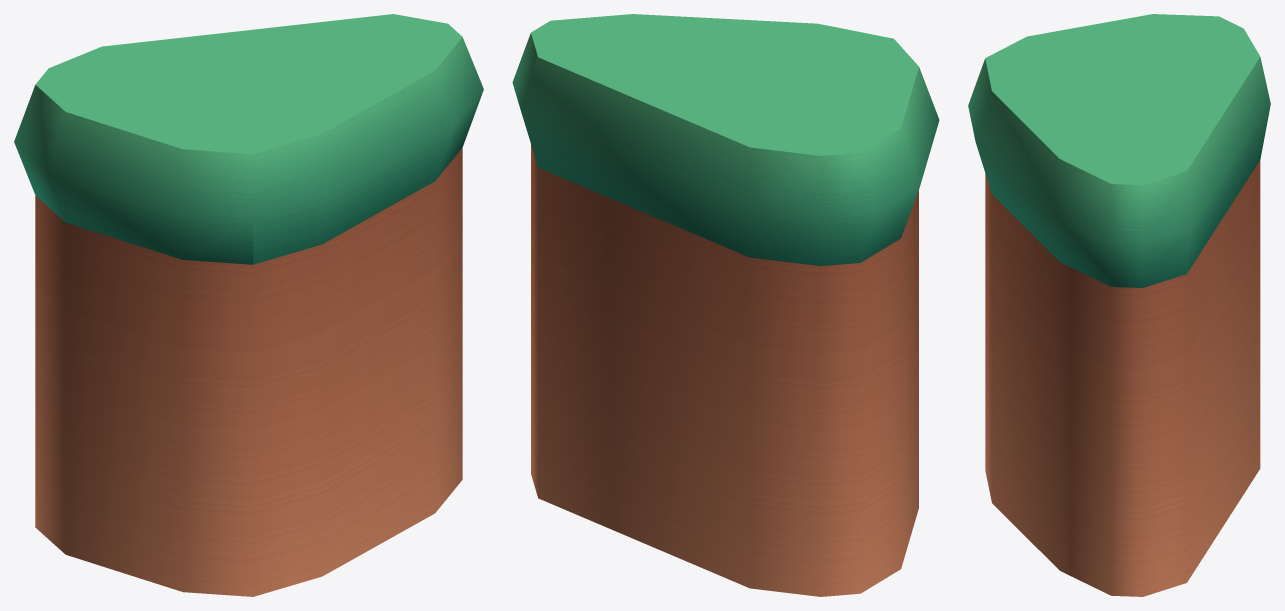
Rendered from block-grass-corner.004_lev2.glb.
3 views of the same model, side by side, from view 1: azimuth 30°, elevation 25°; view 2: azimuth 150°, elevation 25°; view 3: azimuth 270°, elevation 25° (orthographic). The views are drawn at different scales.
Visible parts, largest first — view 1: block-grass-corner.004_lev2; view 2: block-grass-corner.004_lev2; view 3: block-grass-corner.004_lev2.
Part boxes in pixels (x1=…): block-grass-corner.004_lev2: x1=14, y1=14, x2=483, y2=596; block-grass-corner.004_lev2: x1=512, y1=14, x2=939, y2=596; block-grass-corner.004_lev2: x1=968, y1=14, x2=1270, y2=596.
Bounding box in the file's own units: 4.43 × 4.52 × 3.01.
1 material, 1 textured.
